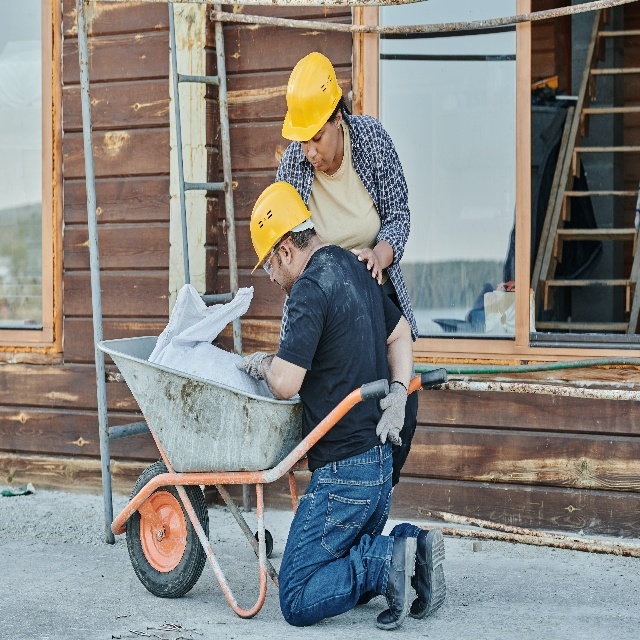Gafas: (263, 234, 293, 276)
Guantes: (375, 380, 408, 447), (237, 351, 273, 381)
Sin_guantes: (351, 247, 382, 285)
